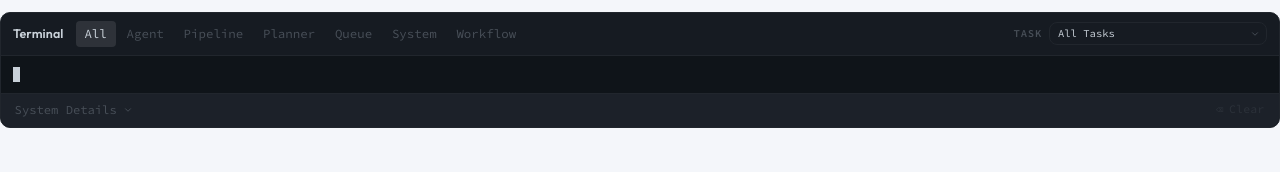
Test: TerminalFeed › renders duplicate task titles with visible short GUID markers
This screenshot has width=1280, height=172.
Click the button with aria-label "Terminal task scope".
click(1158, 34)  # box x1=1049 y1=22 x2=1267 y2=46
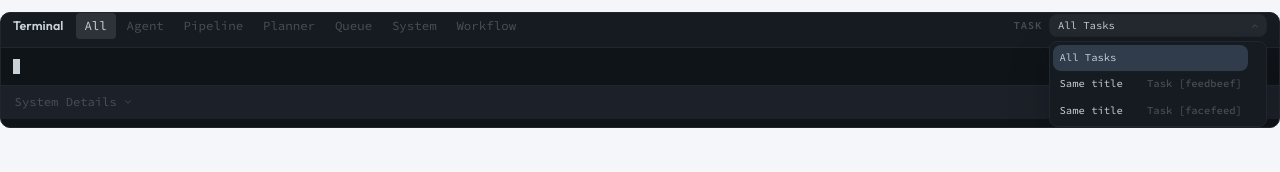
Result: the number of options "Same title Task [feedbeef]" is 2 at x1=1053 y1=72 x2=1248 y2=97; x1=1053 y1=98 x2=1248 y2=123
Result: the option "Same title Task [feedbeef]" is shown at x1=1053 y1=72 x2=1248 y2=97
Result: the option "Same title Task [facefeed]" is shown at x1=1053 y1=98 x2=1248 y2=123
